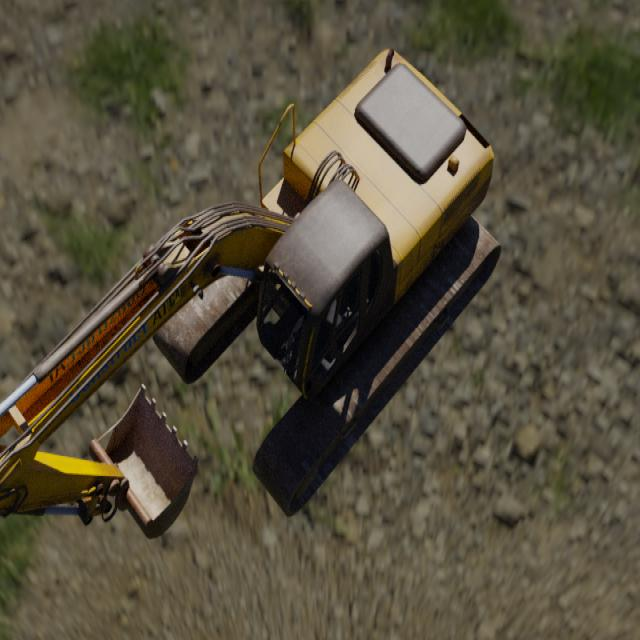excavator: (0, 47, 502, 540)
